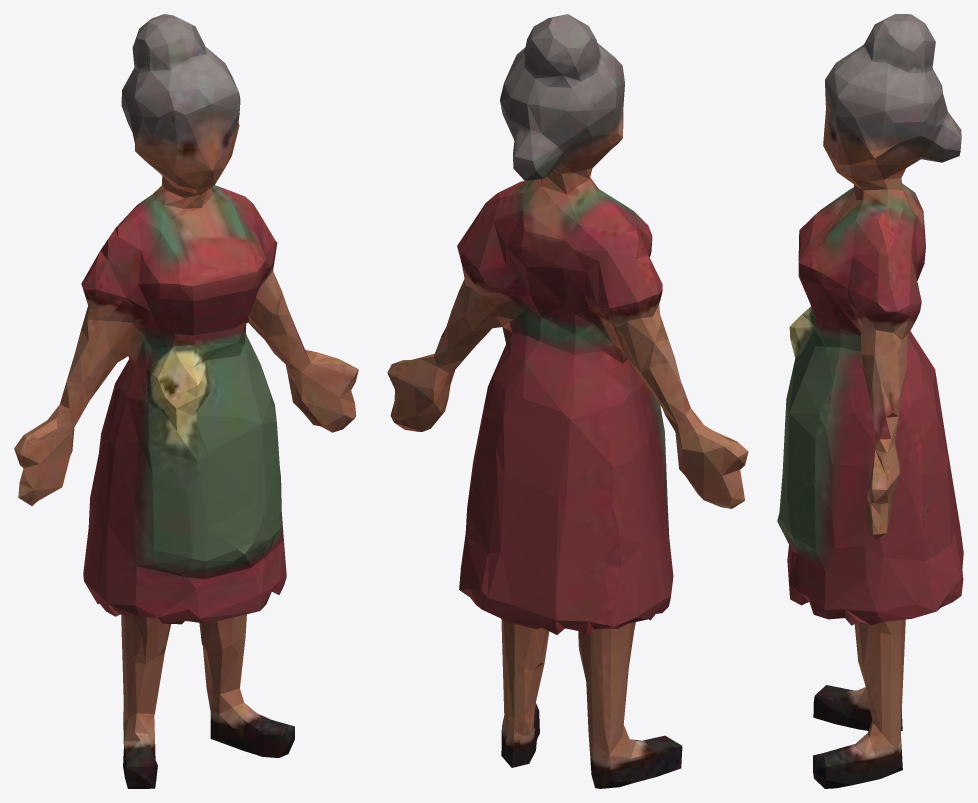
File: habitant-loin.glb
3 views of the same model, side by side, from view 1: azimuth 30°, elevation 25°; view 2: azimuth 150°, elevation 25°; view 3: azimuth 270°, elevation 25° (orthographic). The views are drawn at different scales.
Parts seen in each view (by area): view 1: habitant; view 2: habitant; view 3: habitant.
Part boxes in pixels (box(x1,y1,x2,y2)): habitant: box(14, 14, 358, 788); habitant: box(387, 14, 748, 788); habitant: box(777, 14, 963, 788).
Size of the model in its own units: 0.4916 by 1.01 by 0.2327.
Materials: 1 (1 with a texture image).
